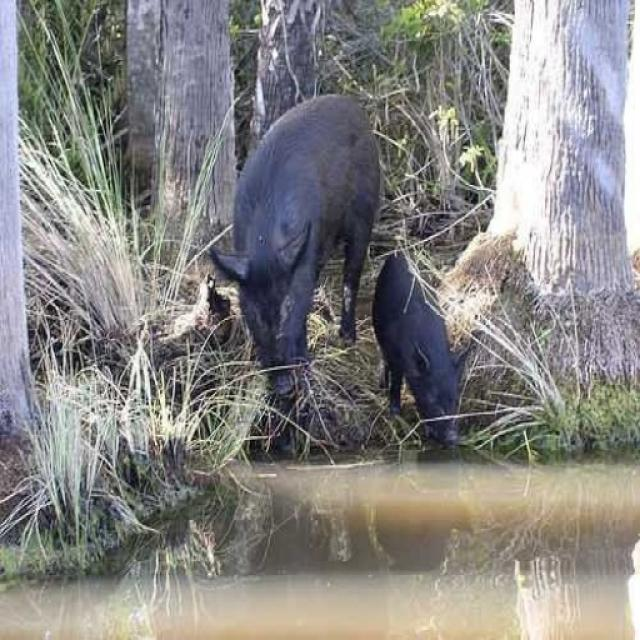pig: (199, 34, 363, 416), (358, 214, 488, 493)
